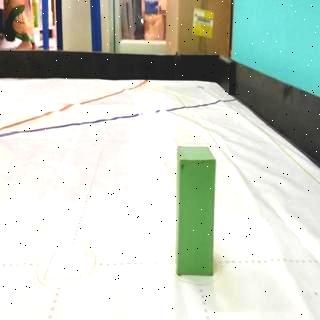greenbox: (175, 144, 215, 276)
